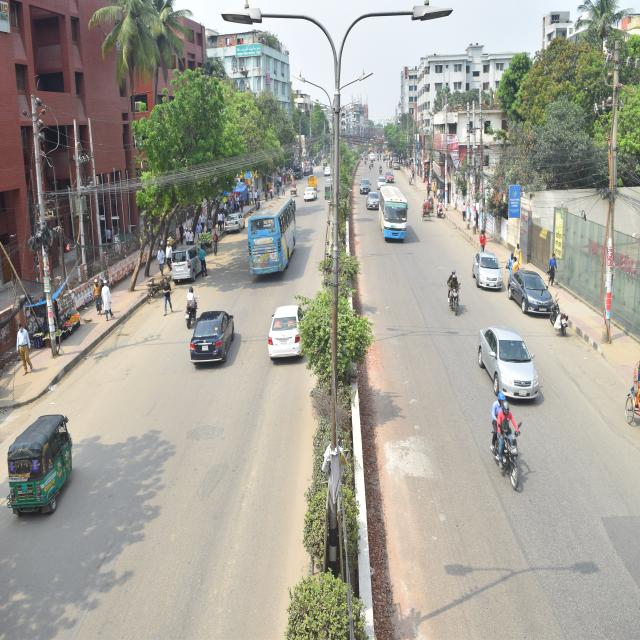bus: (243, 186, 300, 284), (376, 182, 414, 252)
car: (472, 322, 546, 409), (182, 294, 234, 368), (263, 298, 312, 366), (512, 262, 562, 322), (469, 249, 506, 294), (224, 204, 250, 247), (362, 189, 384, 216), (355, 174, 374, 196), (304, 183, 316, 203), (377, 170, 390, 186), (383, 168, 395, 182)
microbus: (160, 247, 208, 286)
motorbike: (483, 398, 532, 492), (542, 292, 572, 338), (175, 285, 198, 329), (443, 266, 463, 316), (436, 194, 445, 222)
pickup-van: (305, 172, 321, 187)
